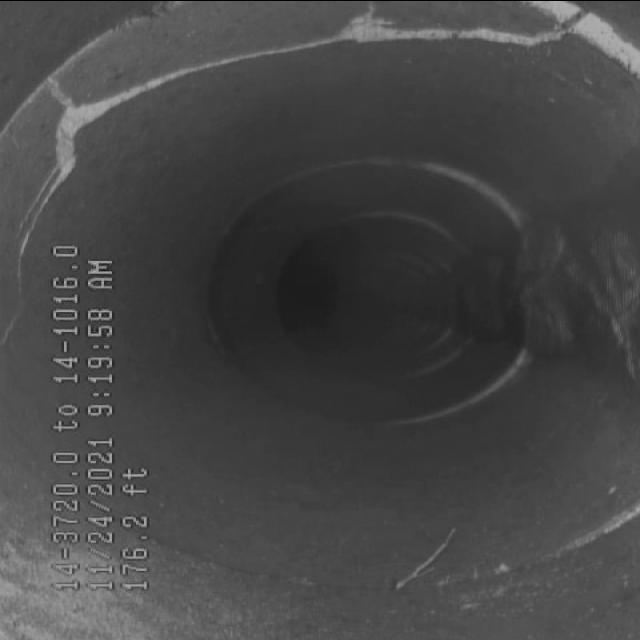Fracture: (24, 11, 562, 151)
